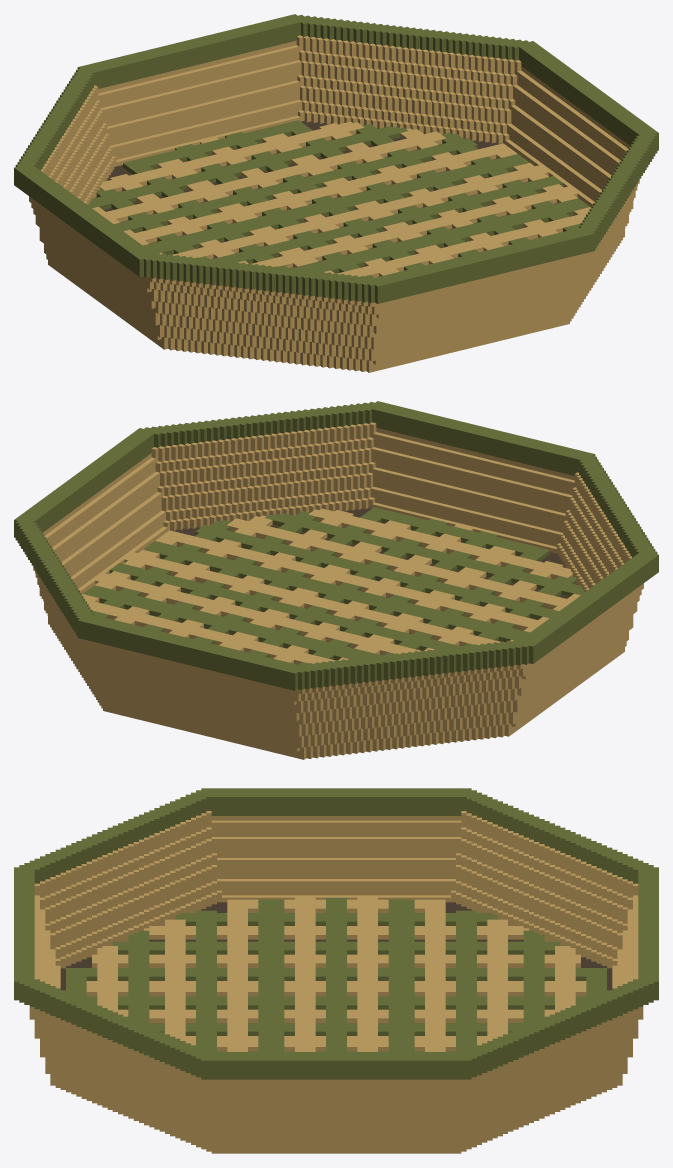
File: sieve_primitive.glb
3 renders of one model, top to bottom at view 1: azimuth 30°, elevation 25°; view 2: azimuth 150°, elevation 25°; view 3: azimuth 270°, elevation 25°, orthographic. The views are drawn at different scales.
Visible parts, largest first — view 1: sieve_primitive:compound; view 2: sieve_primitive:compound; view 3: sieve_primitive:compound.
Boxes of the visible parts, x1,y1,x2,y2 form: sieve_primitive:compound: (14, 14, 658, 372); sieve_primitive:compound: (14, 401, 658, 759); sieve_primitive:compound: (14, 788, 658, 1153).
Bounding box in the file's own units: 0.248 × 0.046 × 0.248.
